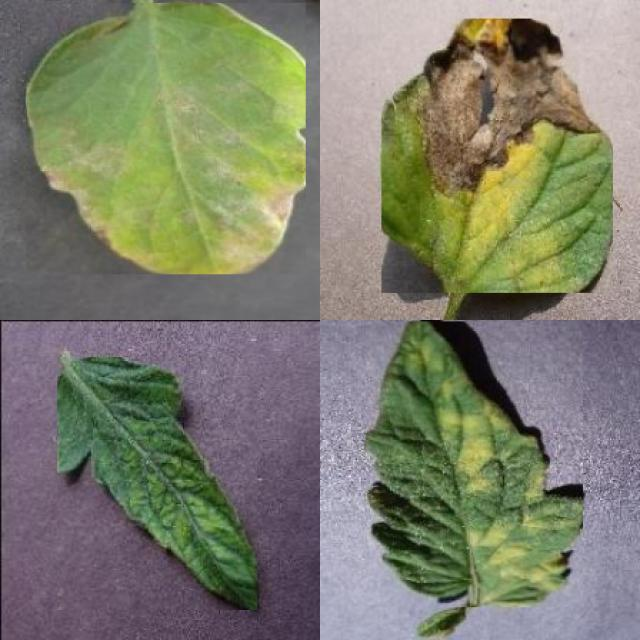Late Blight: (26, 4, 306, 275), (382, 18, 614, 293)
Leaf Mold: (366, 322, 583, 608)
Mosaic Virus: (57, 357, 257, 610)
